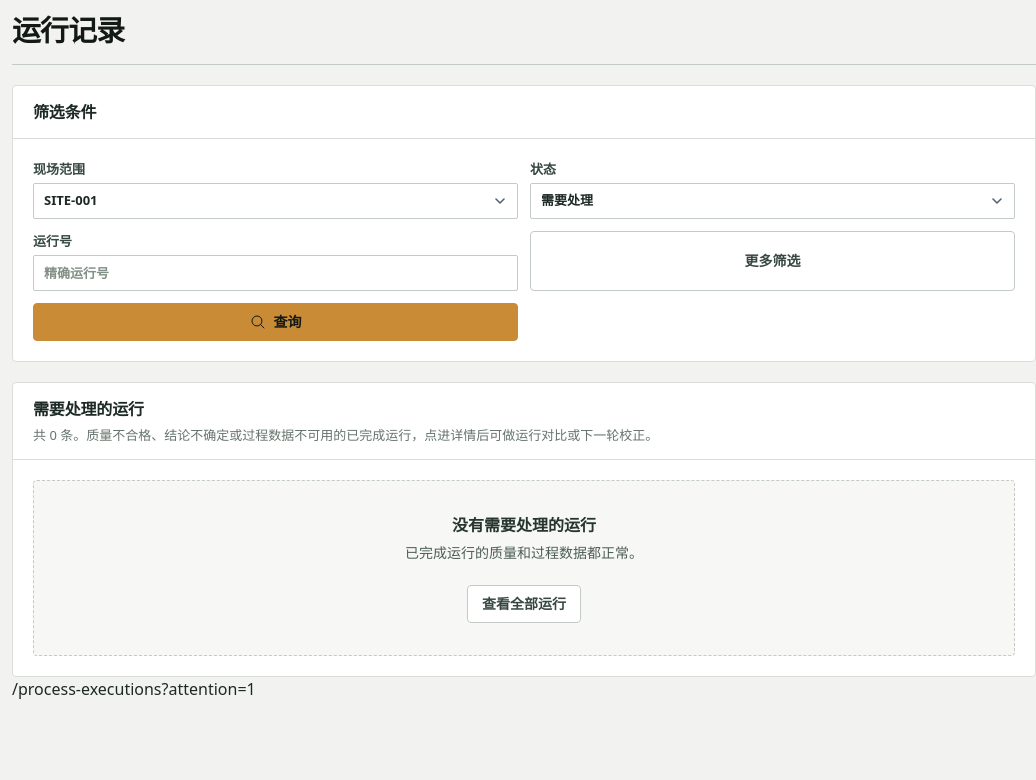
Scenario: 运行记录需要处理筛选 › 没有异常运行时给出空状态
Expected: the text "没有需要处理的运行" is shown, [452,514,596,536]
Click the button "查看全部运行" at point(524, 604), box [467,585,581,623]
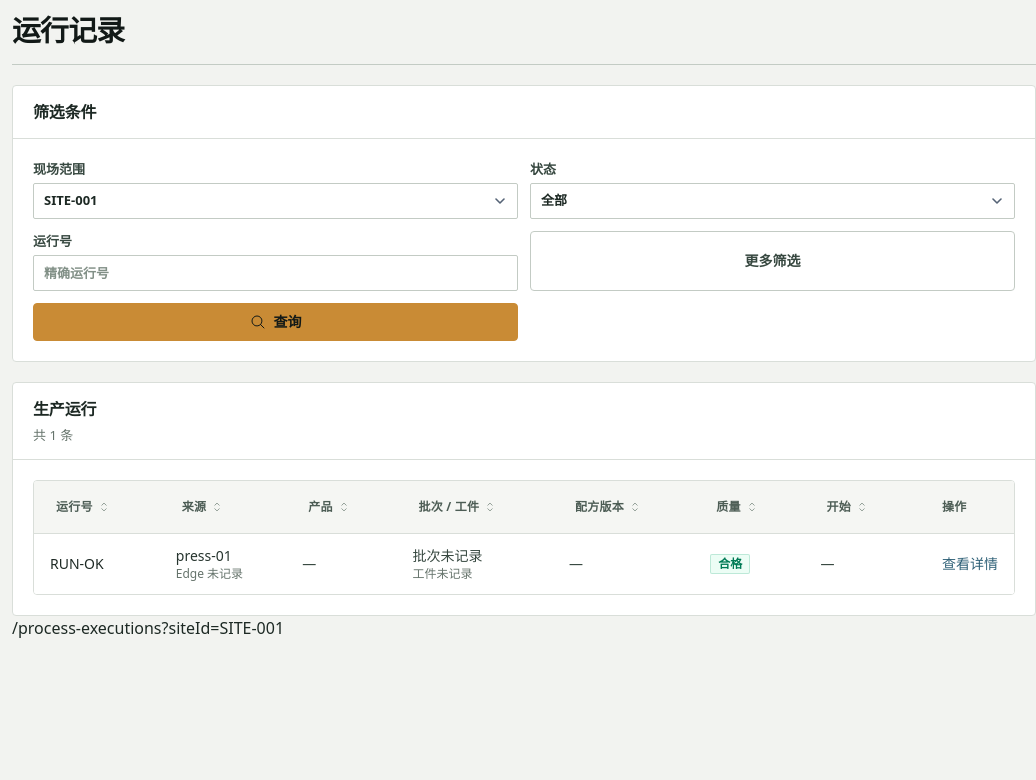
Now the text "RUN-OK" is shown, box [34,534,160,594]
Now the text named "当前位置" reads "/process-executions?siteId=SITE-001", box [12,617,284,639]
